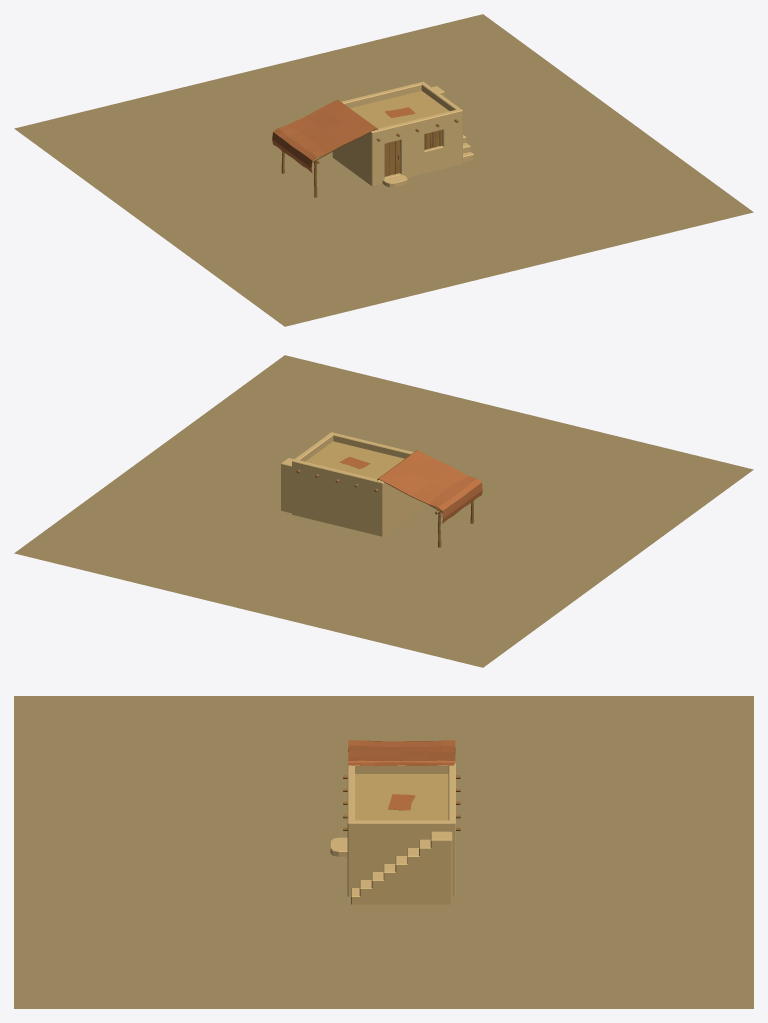
File: Tile 36_Combined.fbx
3 renders of one model, top to bottom at view 1: azimuth 30°, elevation 25°; view 2: azimuth 150°, elevation 25°; view 3: azimuth 270°, elevation 25°, orthographic. The views are drawn at different scales.
Visible parts, largest first — view 1: MeshBaker_mesh_mesh; view 2: MeshBaker_mesh_mesh; view 3: MeshBaker_mesh_mesh.
Boxes of the visible parts, x1,y1,x2,y2 form: MeshBaker_mesh_mesh: (14, 14, 753, 326); MeshBaker_mesh_mesh: (14, 355, 753, 667); MeshBaker_mesh_mesh: (14, 696, 753, 1008).
Size of the model in its own units: 3000 by 349 by 3000.
